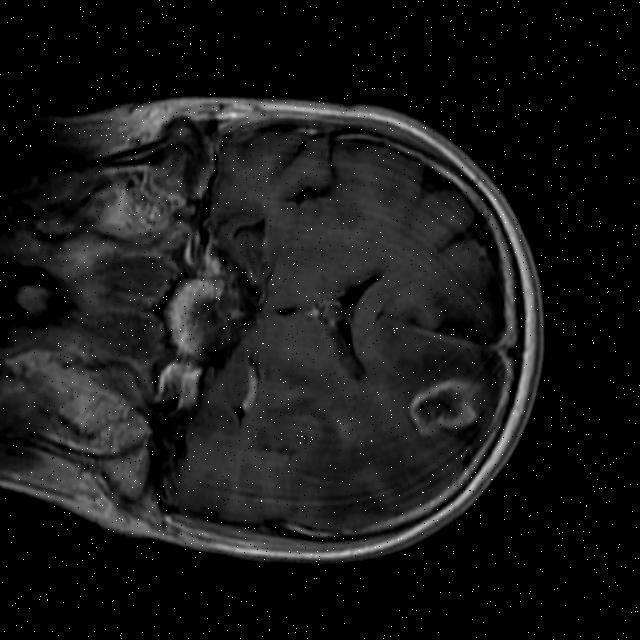Glioma: (403, 373, 483, 444)
Pituitary: (158, 275, 225, 358)
